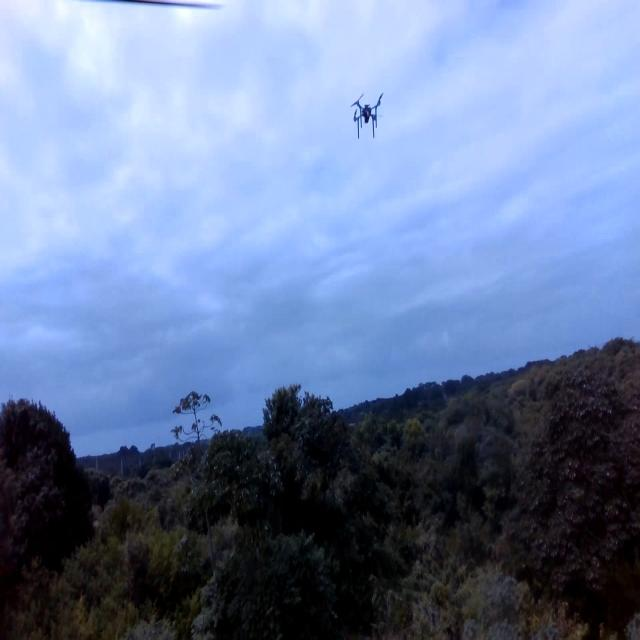-uav-: (342, 86, 388, 144)
